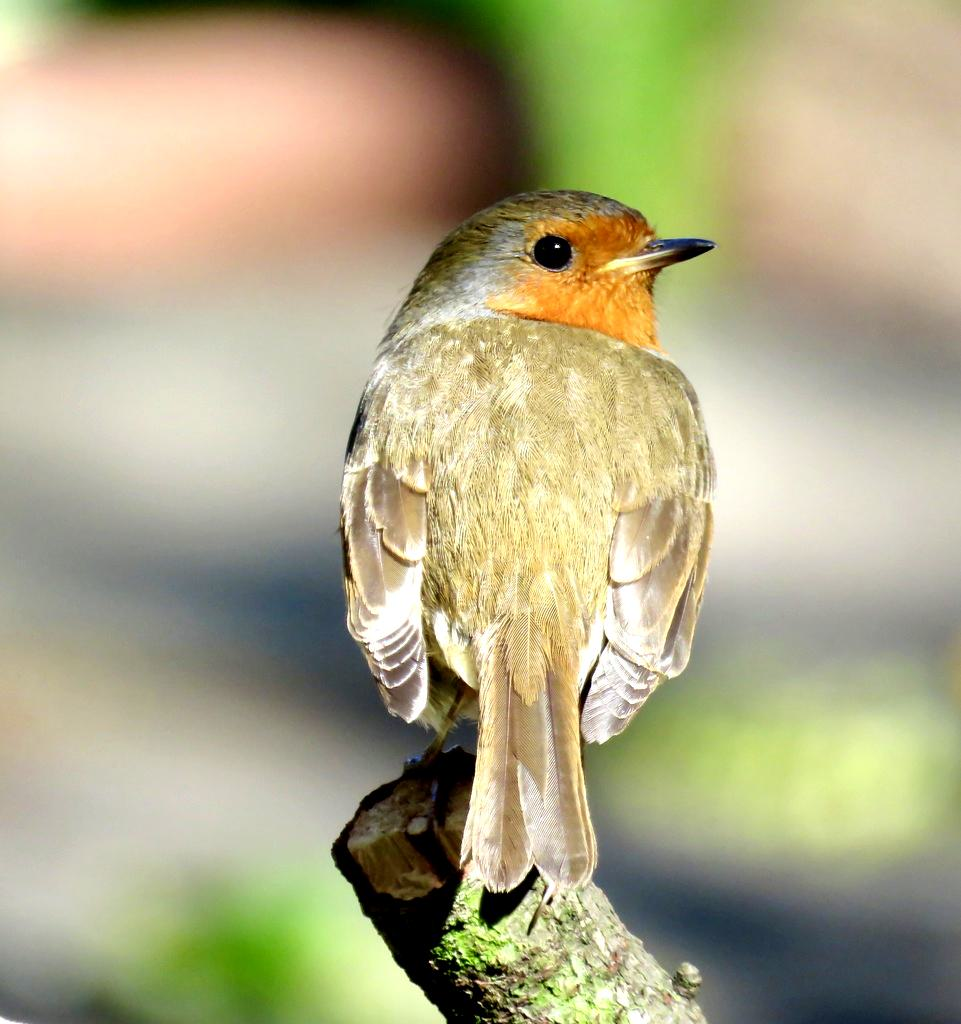ErithacusRubecula: (338, 197, 718, 917)
